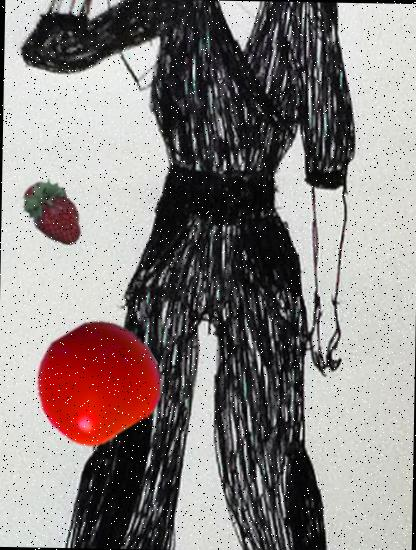Strawberry: (18, 174, 92, 249)
Tomato: (34, 318, 159, 443)
